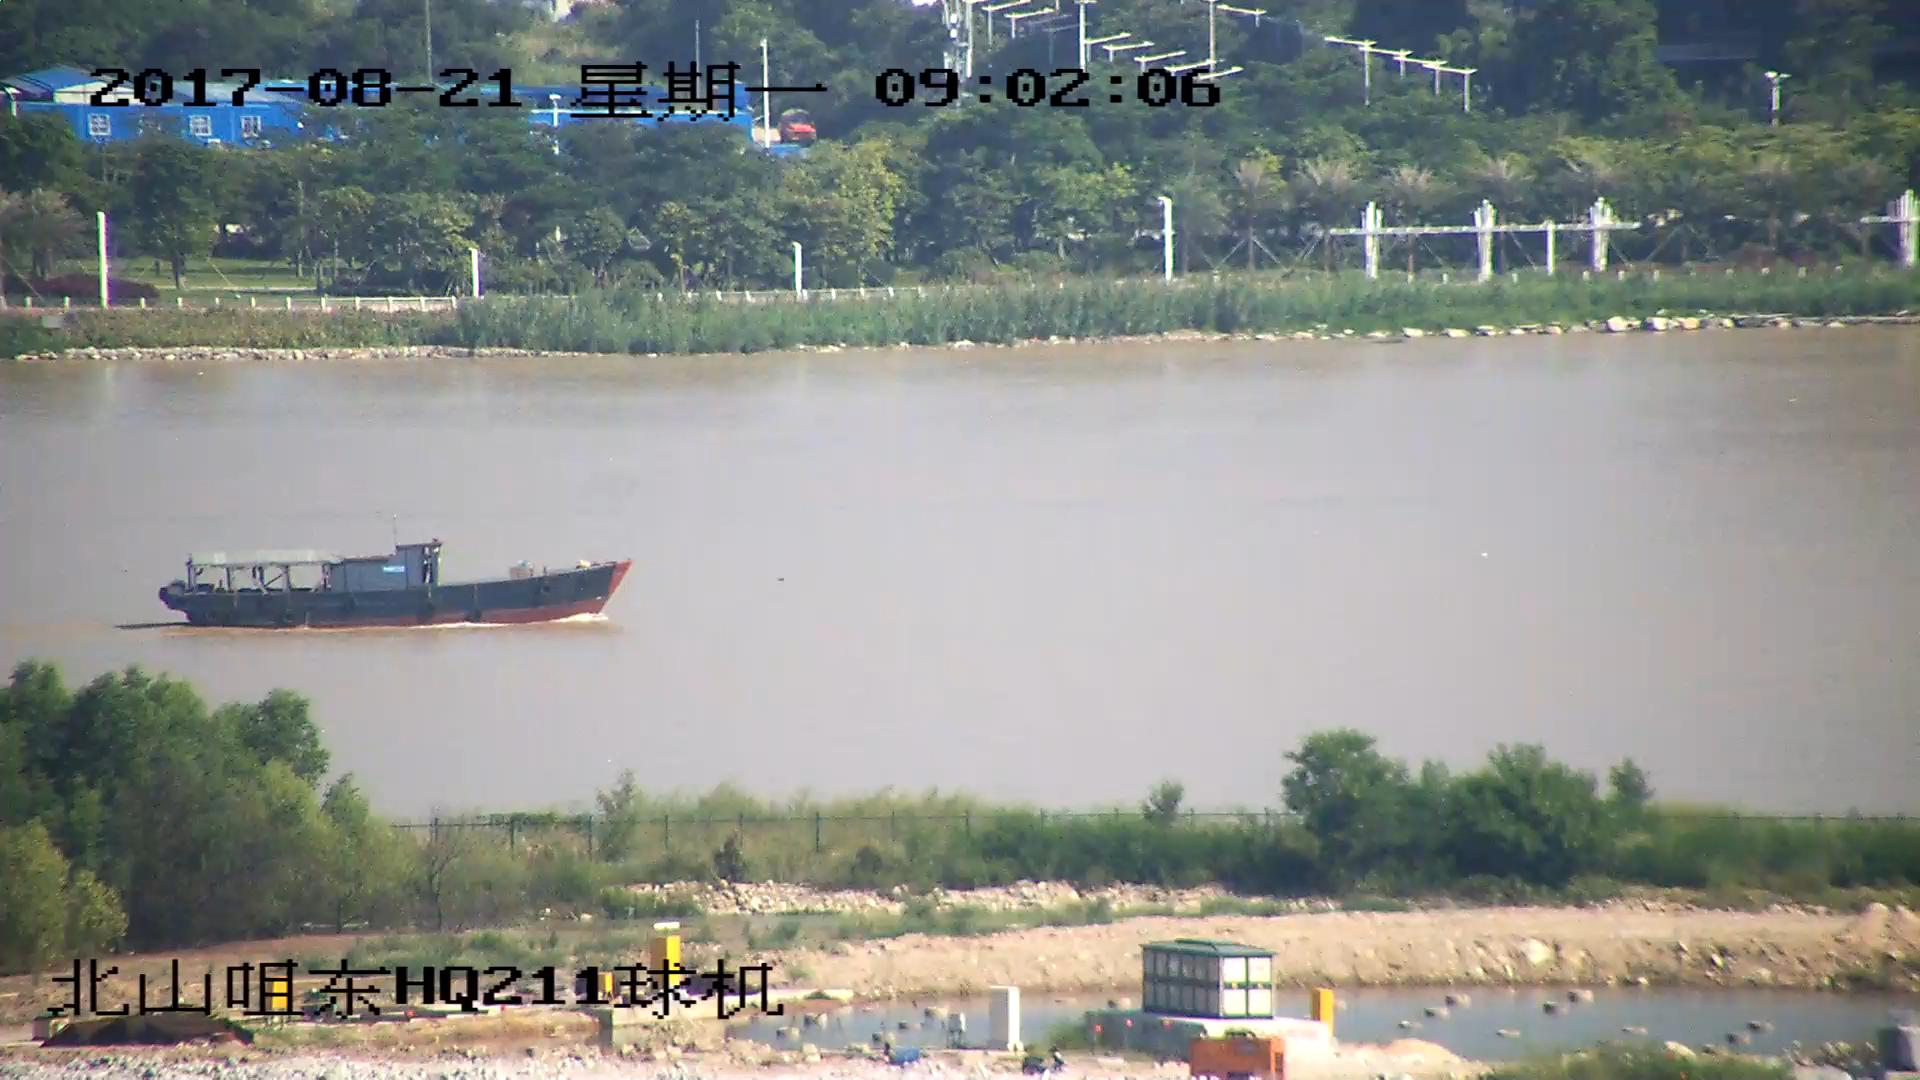fishing boat: (159, 534, 632, 629)
